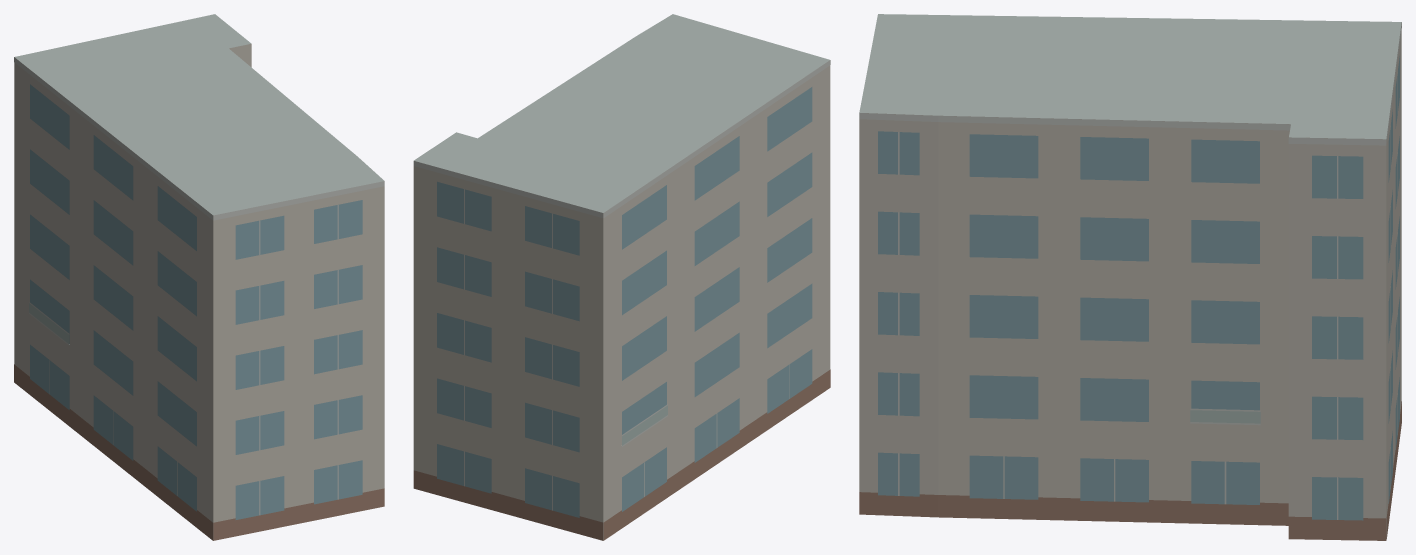
Rendered from survey-upis-32527828.glb.
3 renders of one model, left to right at view 1: azimuth 30°, elevation 25°; view 2: azimuth 150°, elevation 25°; view 3: azimuth 270°, elevation 25°, orthographic. The views are drawn at different scales.
Parts seen in each view (by area): view 1: survey-upis-32527828.tmp; view 2: survey-upis-32527828.tmp; view 3: survey-upis-32527828.tmp.
Boxes of the visible parts, x1,y1,x2,y2 form: survey-upis-32527828.tmp: (14,14,384,540); survey-upis-32527828.tmp: (413,14,830,540); survey-upis-32527828.tmp: (859,14,1401,540).
Size of the model in its own units: 10.2 by 15.25 by 18.67.
